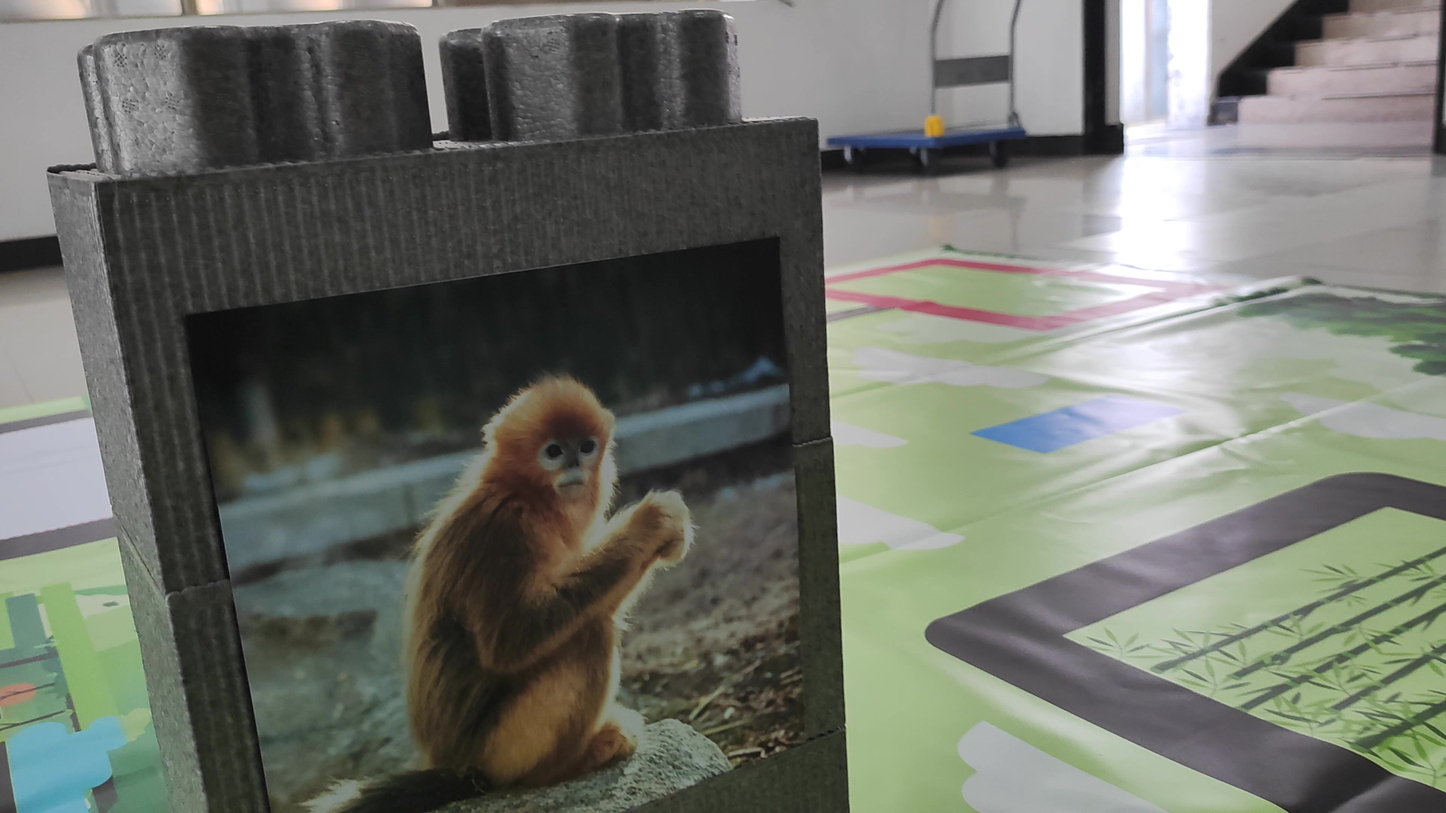monkey: (277, 342, 721, 804)
